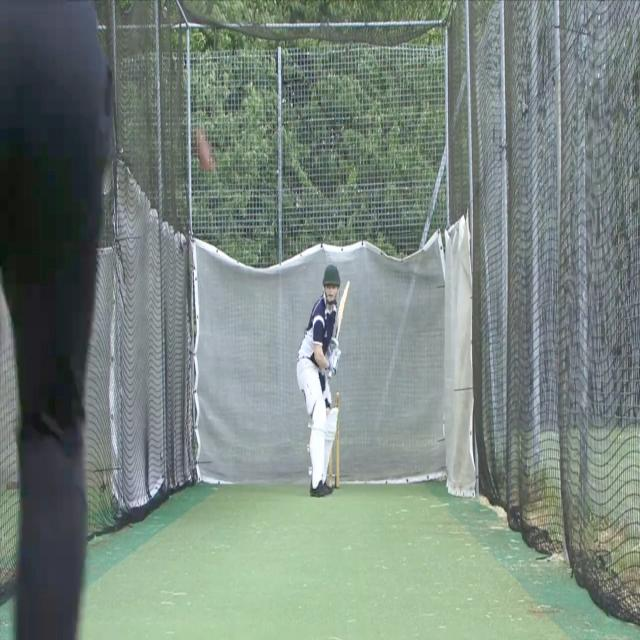batsman: (295, 262, 351, 500)
